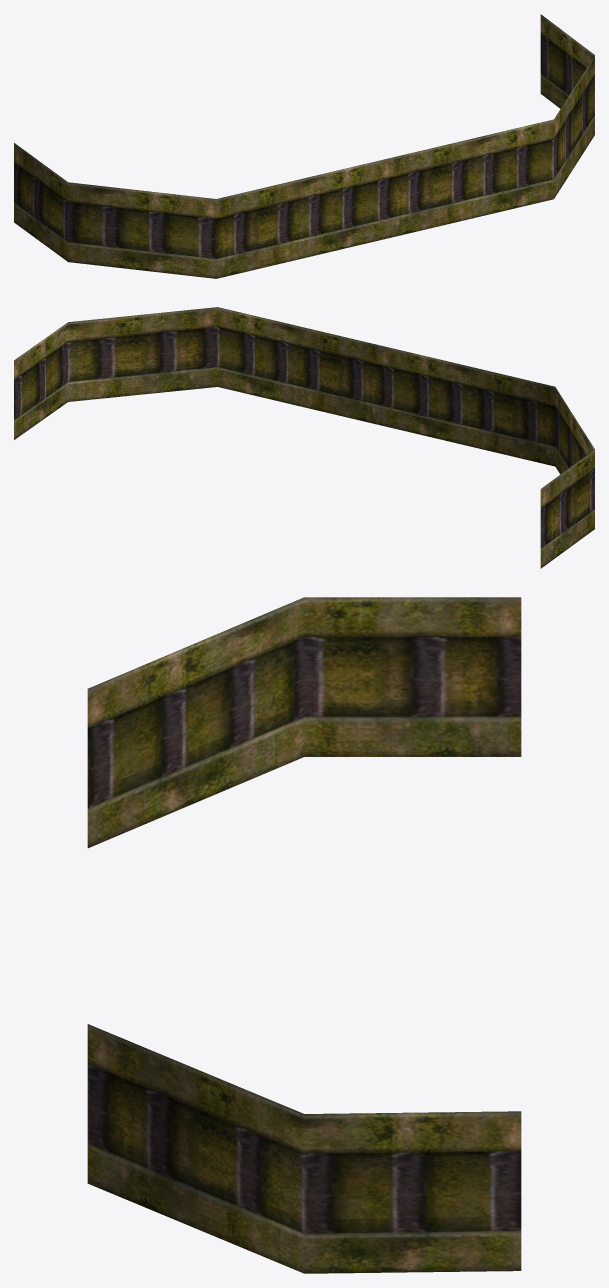
Rendered from OVERHILL_A_01_LINE408.fbx.
3 views of the same model, one above another, from view 1: azimuth 30°, elevation 25°; view 2: azimuth 150°, elevation 25°; view 3: azimuth 270°, elevation 25° (orthographic). The views are drawn at different scales.
Parts seen in each view (by area): view 1: OVERHILL_A_01_LINE408; view 2: OVERHILL_A_01_LINE408; view 3: OVERHILL_A_01_LINE408.
Part boxes in pixels (bbox=[...]): OVERHILL_A_01_LINE408: bbox=[14, 14, 594, 278]; OVERHILL_A_01_LINE408: bbox=[14, 307, 594, 568]; OVERHILL_A_01_LINE408: bbox=[87, 597, 521, 1273].
Bounding box in the file's own units: 56088 × 8405 × 20000.
1 material, 1 textured.
